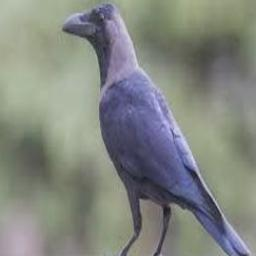Crow: (63, 1, 252, 256)
